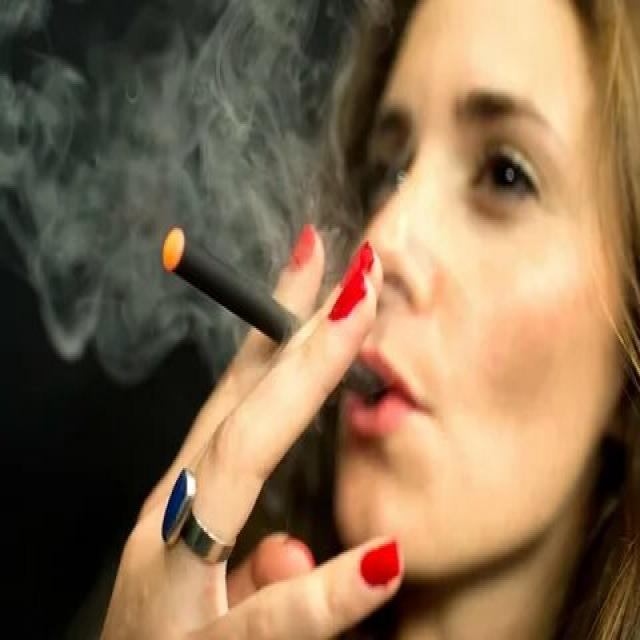smoke: (156, 218, 385, 408)
